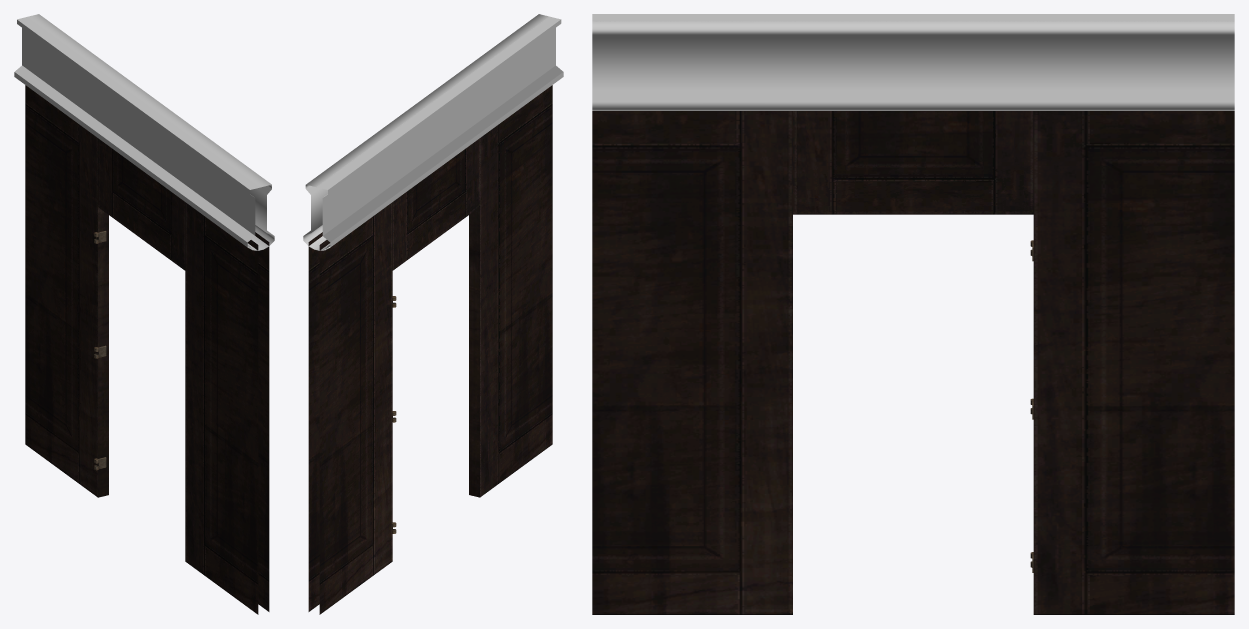
File: engineroom_balcony_office_door.DAE
3 views of the same model, side by side, from view 1: azimuth 30°, elevation 25°; view 2: azimuth 150°, elevation 25°; view 3: azimuth 270°, elevation 25° (orthographic). The views are drawn at different scales.
Visible parts, largest first — view 1: Box018, balcony_straight_metal009; view 2: Box018, balcony_straight_metal009; view 3: Box018, balcony_straight_metal009.
Part boxes in pixels (box(x1,y1,x2,y2)): Box018: box(25, 85, 269, 614); balcony_straight_metal009: box(14, 14, 274, 250); Box018: box(308, 85, 552, 614); balcony_straight_metal009: box(303, 14, 563, 250); Box018: box(592, 111, 1234, 614); balcony_straight_metal009: box(592, 14, 1234, 110).
Bounding box in the file's own units: 0.2669 × 4.04 × 4.
